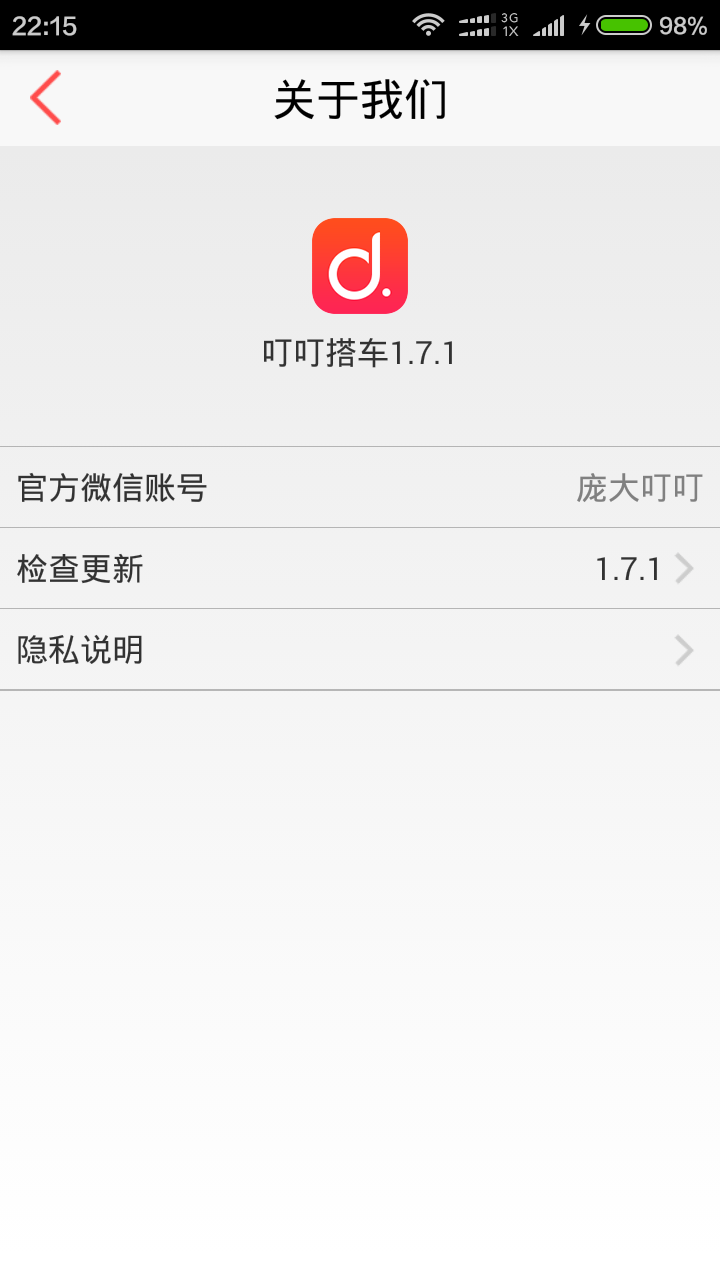imgbutton: (662, 541, 709, 595)
imgview: (244, 198, 485, 329)
textview: (2, 431, 720, 700)
